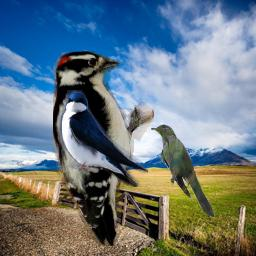Cuckoo: (151, 124, 217, 218)
Swallow: (59, 90, 148, 187)
Woodpecker: (53, 51, 154, 246)
